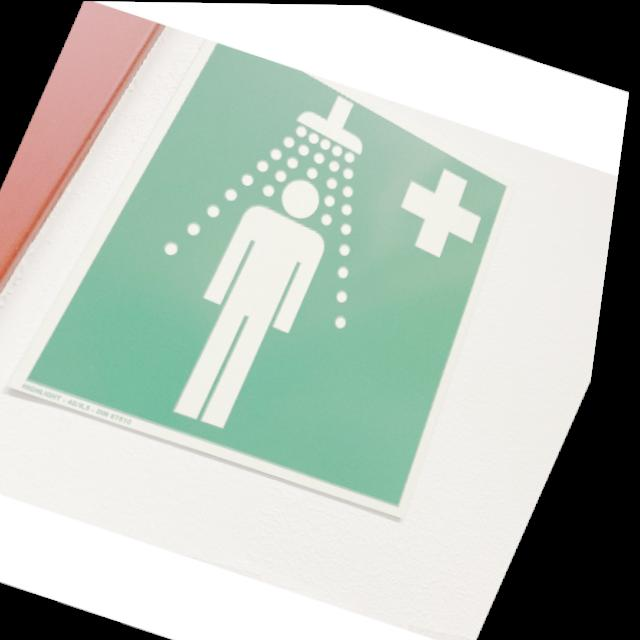shower: (1, 23, 577, 520)
